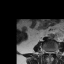CCS_normal: (48, 50, 50, 57)
LFS_normal: (52, 50, 54, 55)
LLS_stenosis: (50, 50, 52, 55)
RFS_normal: (45, 49, 47, 54)
RLS_stenosis: (47, 50, 49, 54)
